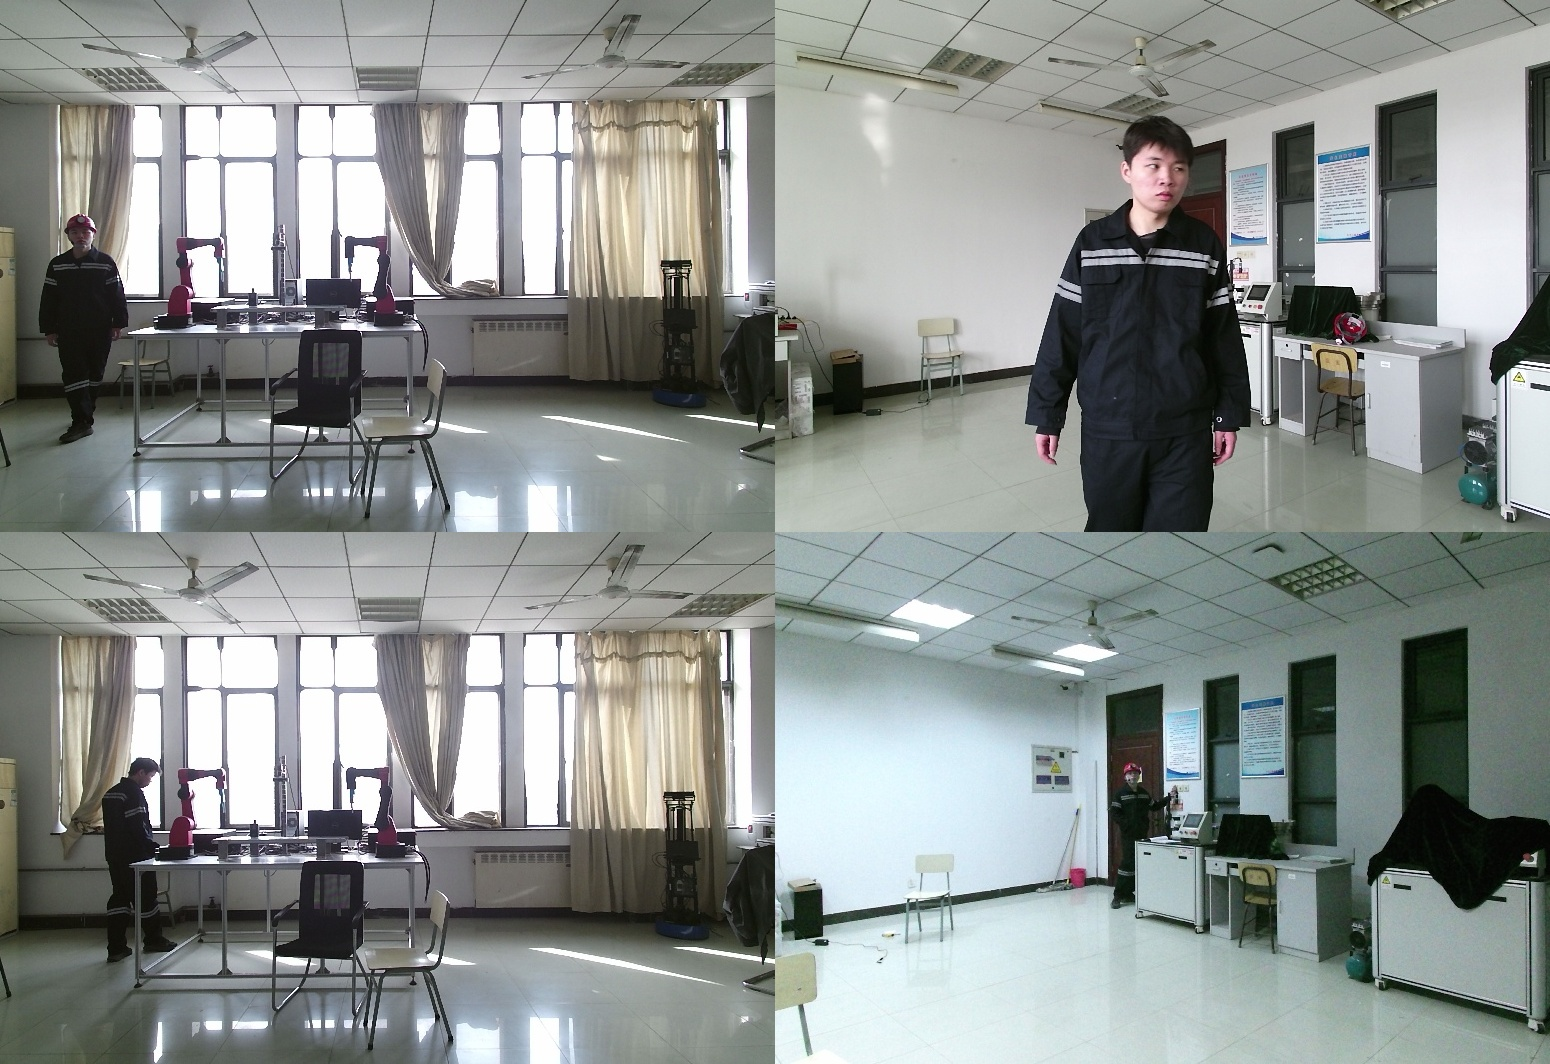person: (1029, 116, 1257, 532), (37, 216, 129, 443), (94, 757, 177, 963), (1107, 763, 1170, 912)
